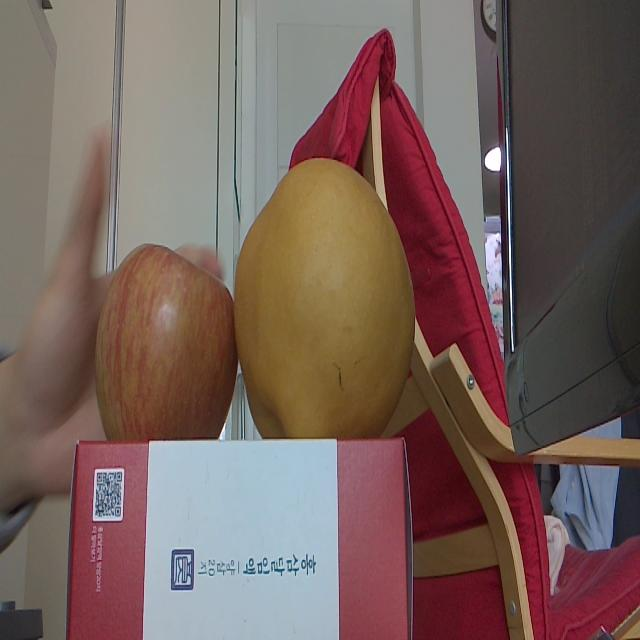apple: (94, 244, 236, 442)
pear: (233, 154, 415, 444)
